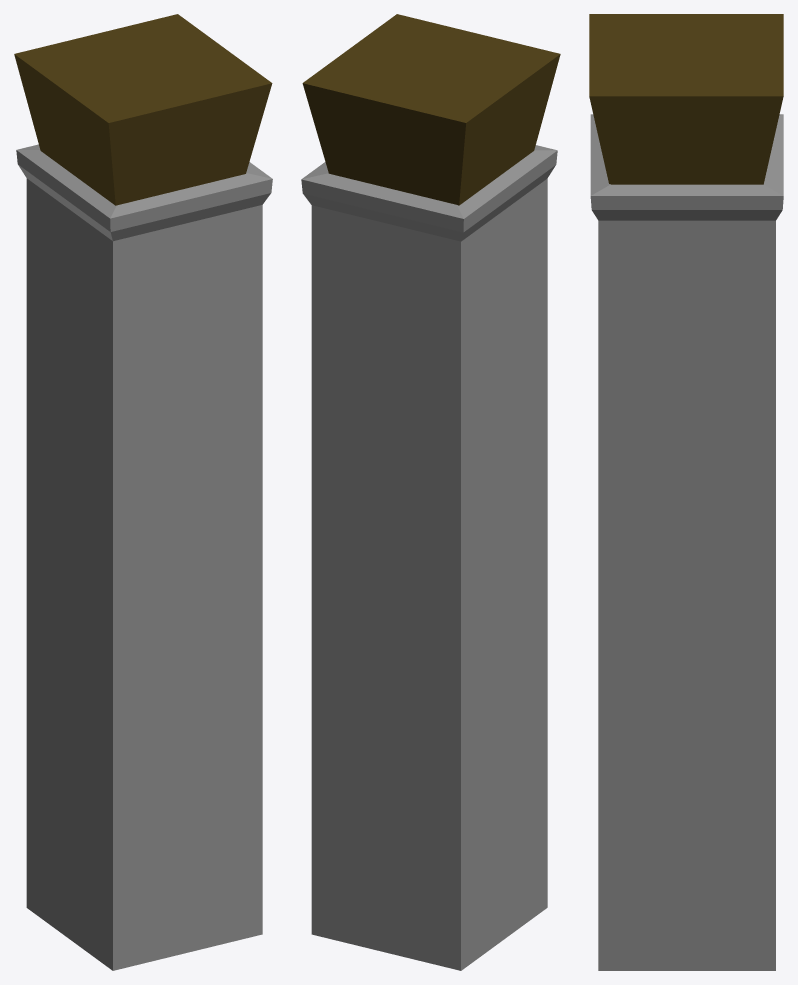
File: SquareVial.FBX
3 renders of one model, left to right at view 1: azimuth 30°, elevation 25°; view 2: azimuth 150°, elevation 25°; view 3: azimuth 270°, elevation 25°, orthographic. The views are drawn at different scales.
Parts seen in each view (by area): view 1: Box001, Box002; view 2: Box001, Box002; view 3: Box001, Box002.
Boxes of the visible parts, box(x1,y1,x2,y2) form: Box001: box(16, 144, 272, 970); Box002: box(14, 14, 272, 205); Box001: box(301, 145, 557, 970); Box002: box(302, 14, 560, 205); Box001: box(590, 114, 783, 970); Box002: box(589, 14, 783, 184).
Size of the model in its own units: 16.97 by 83.91 by 16.87.
